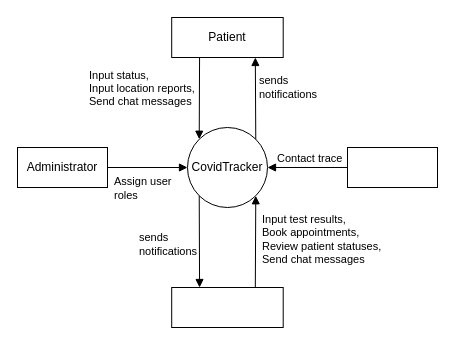
Image size: 455x345. Some labels were removed from this diagram. Here are the shapes that lost their labels. From the top down, the centre of each, then its label:
At (x=392, y=167): "Health Official".
At (x=227, y=307): "Doctor".
